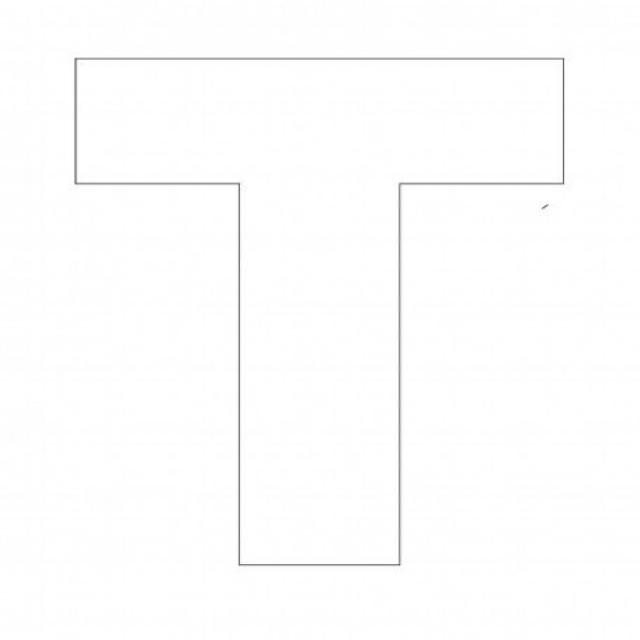T: (55, 17, 600, 594)
